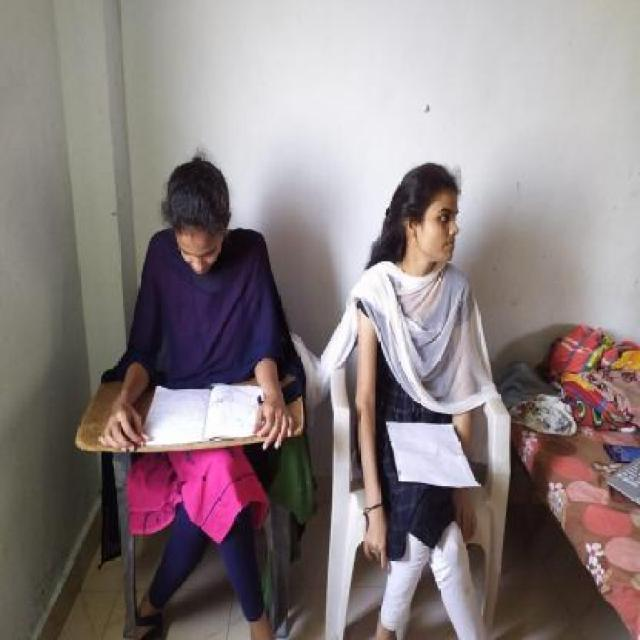cheating: (326, 159, 509, 440)
good: (97, 117, 312, 429)
